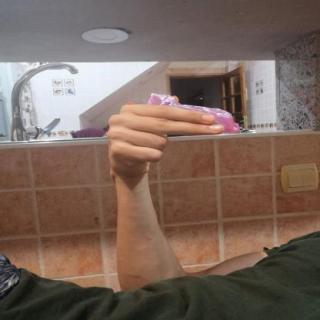AYN: (91, 88, 237, 186)
